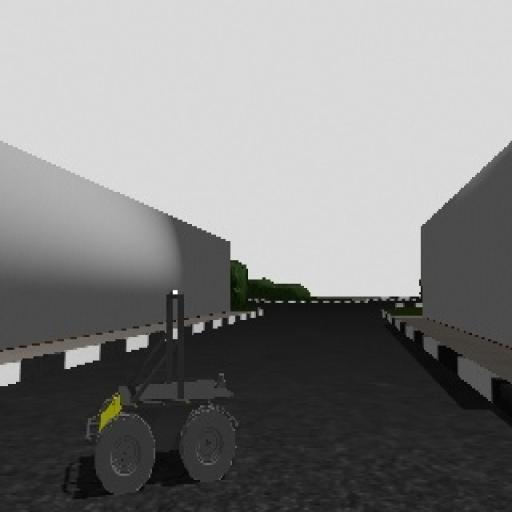huskya200: (72, 278, 257, 508)
